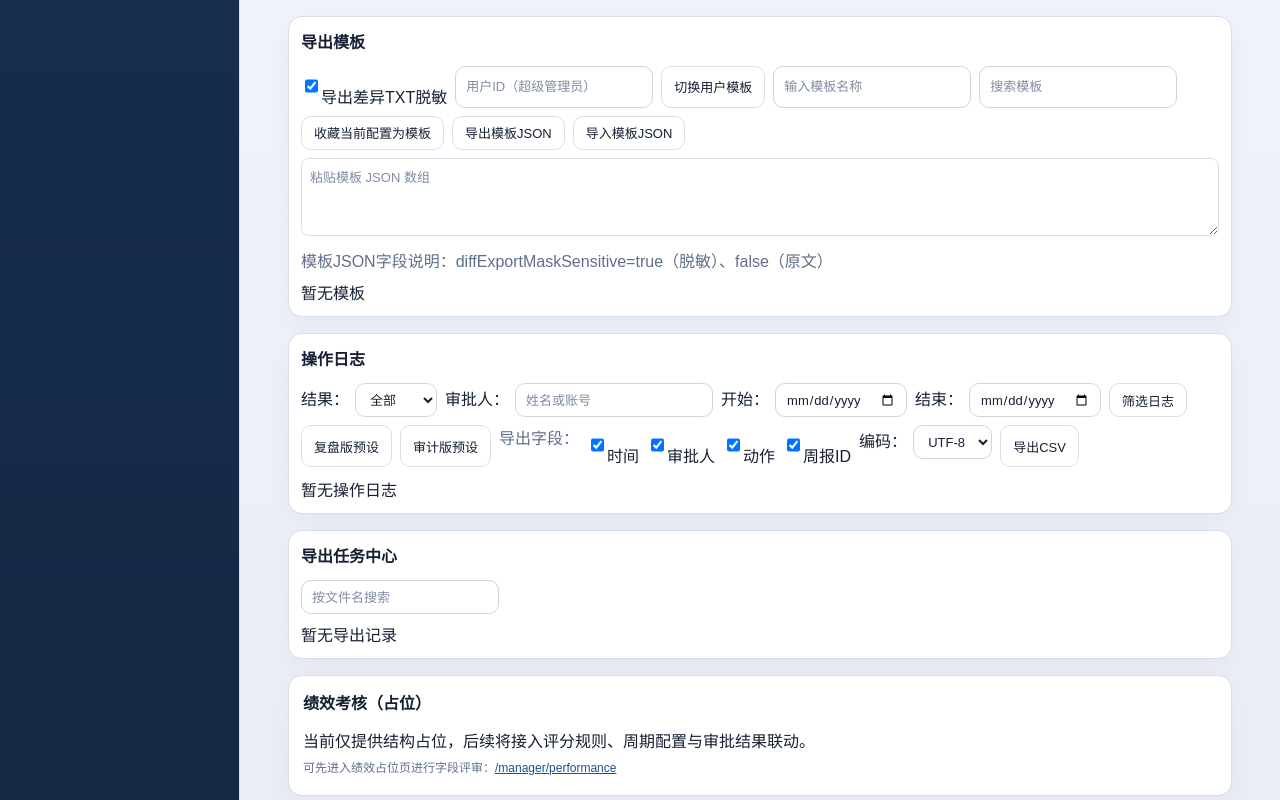
Test case: ManagerReviewsPage › exports csv with current filters and date range in filename
The image size is (1280, 800).
(page scrolled)
Select "仅驳回" in the dropdown named "日志结果筛选" at (396, 400), box 355,383 -> 437,417
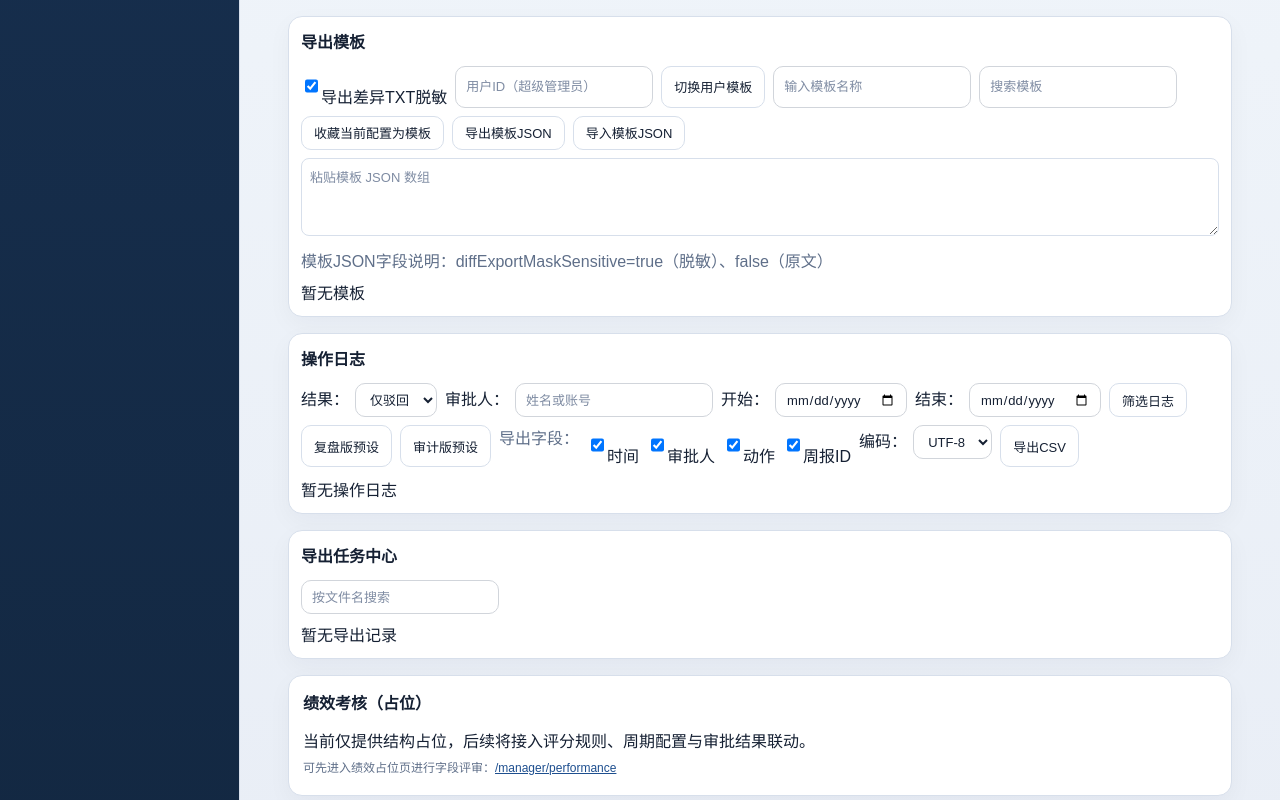
Type "admin" into the field named "日志审批人筛选" at (614, 400), box 515,383 -> 713,417
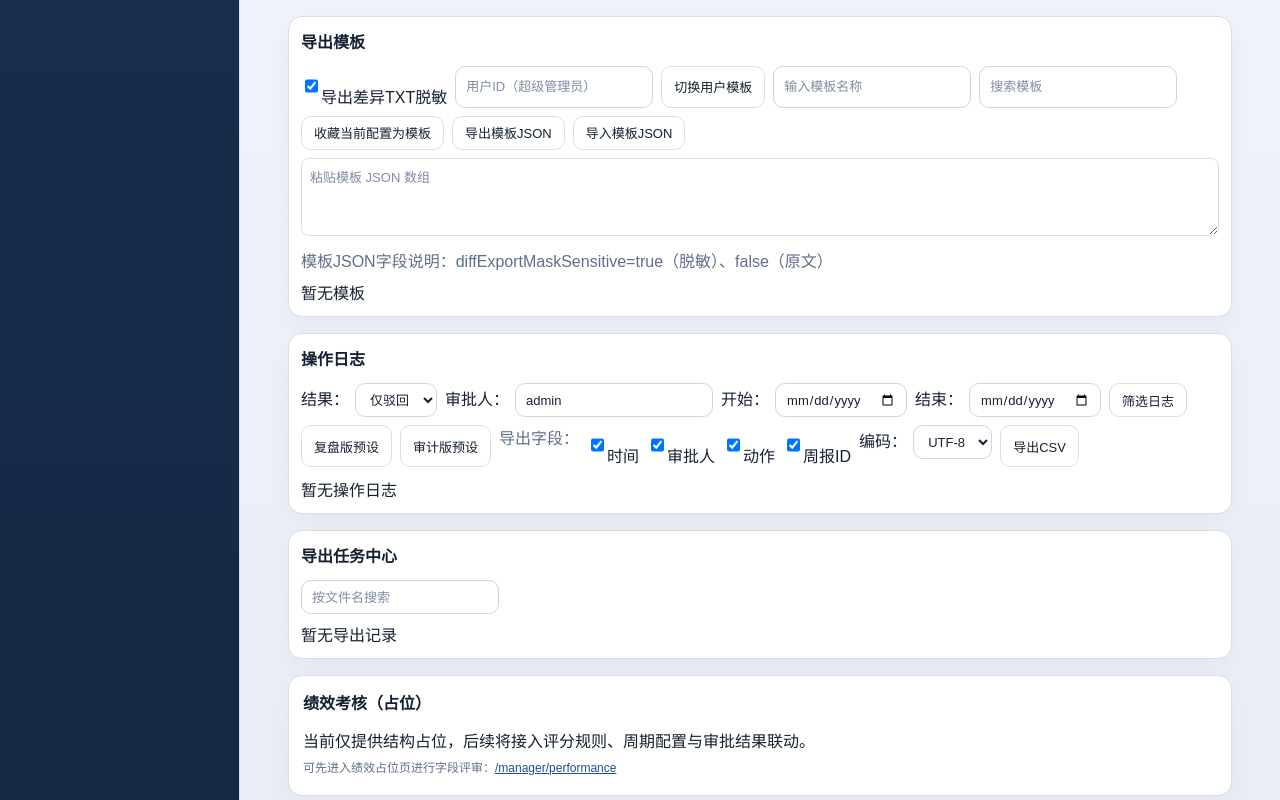
Type "2026-03-01" into the date field named "日志开始日期筛选" at (841, 400), box 775,383 -> 907,417
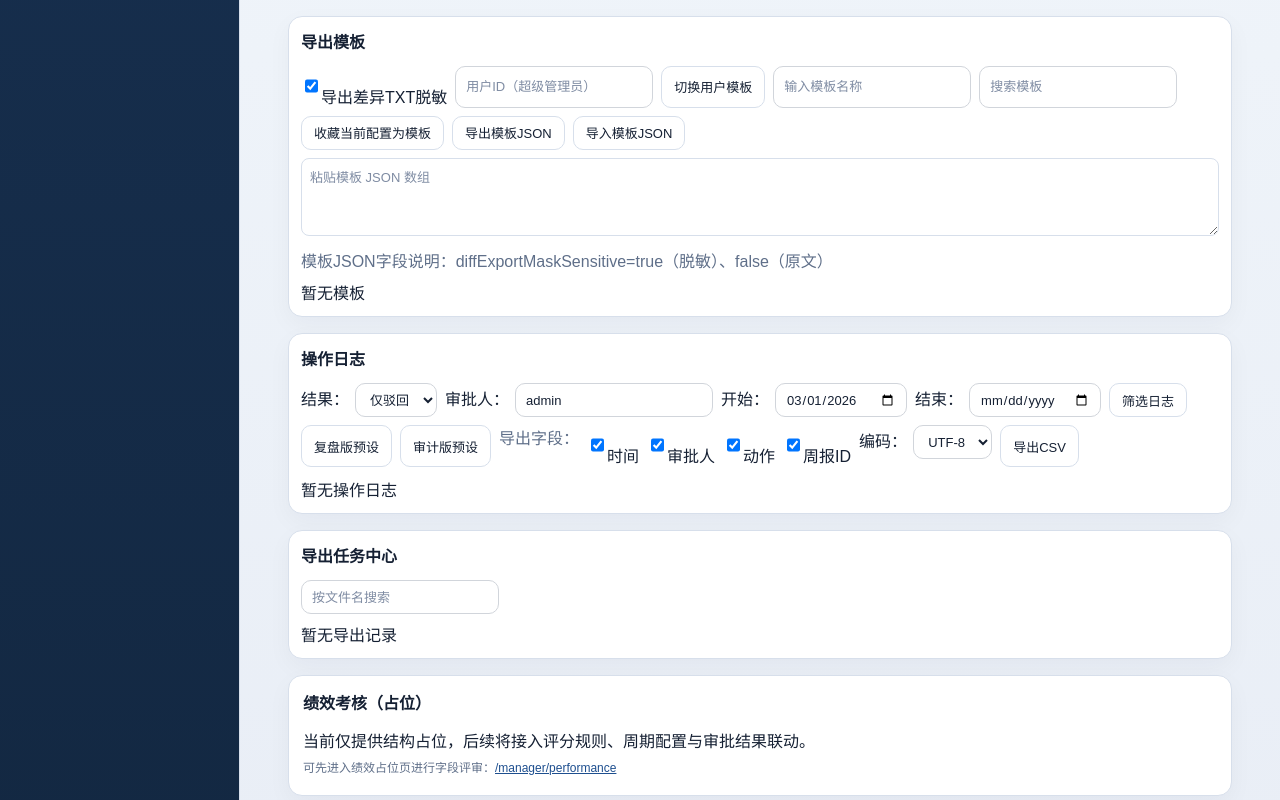
Type "2026-03-20" into the date field named "日志结束日期筛选" at (1035, 400), box 969,383 -> 1101,417
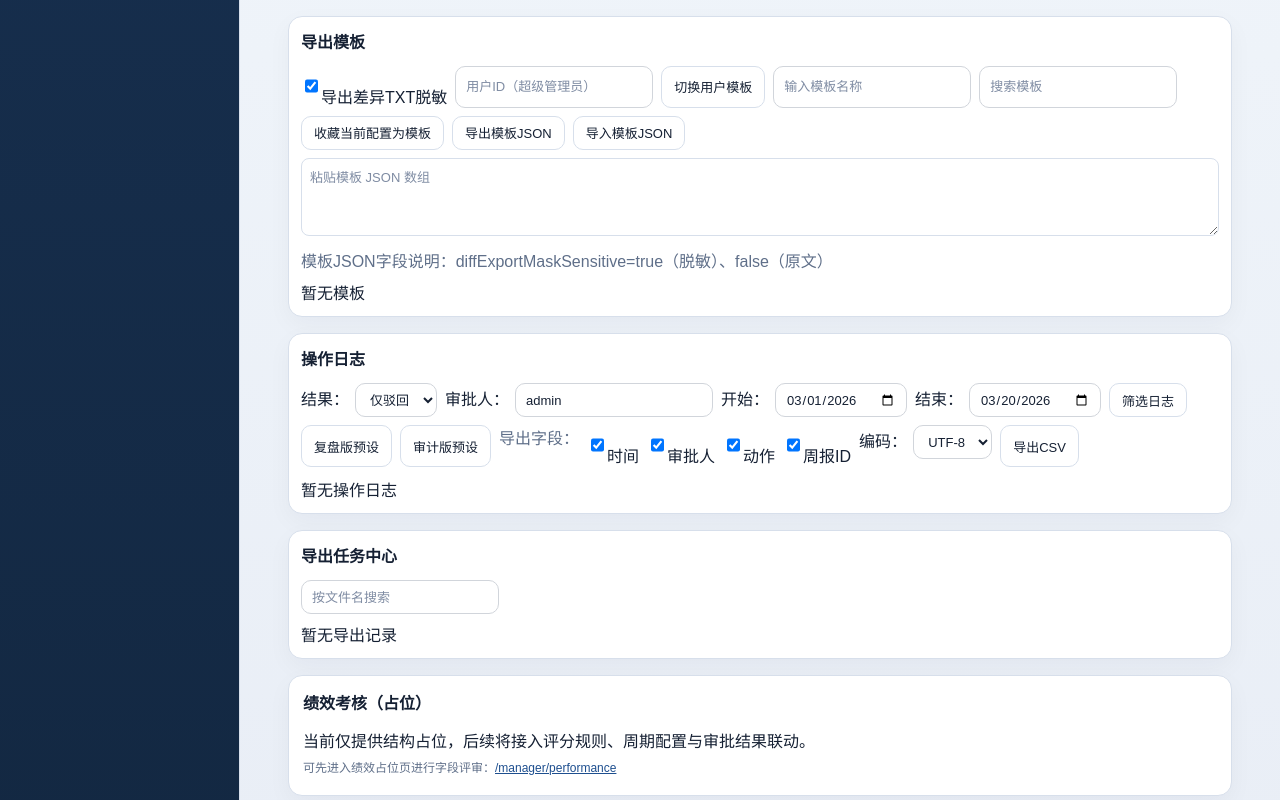
Click the button "导出CSV" at (1039, 446), box 1000,425 -> 1079,467
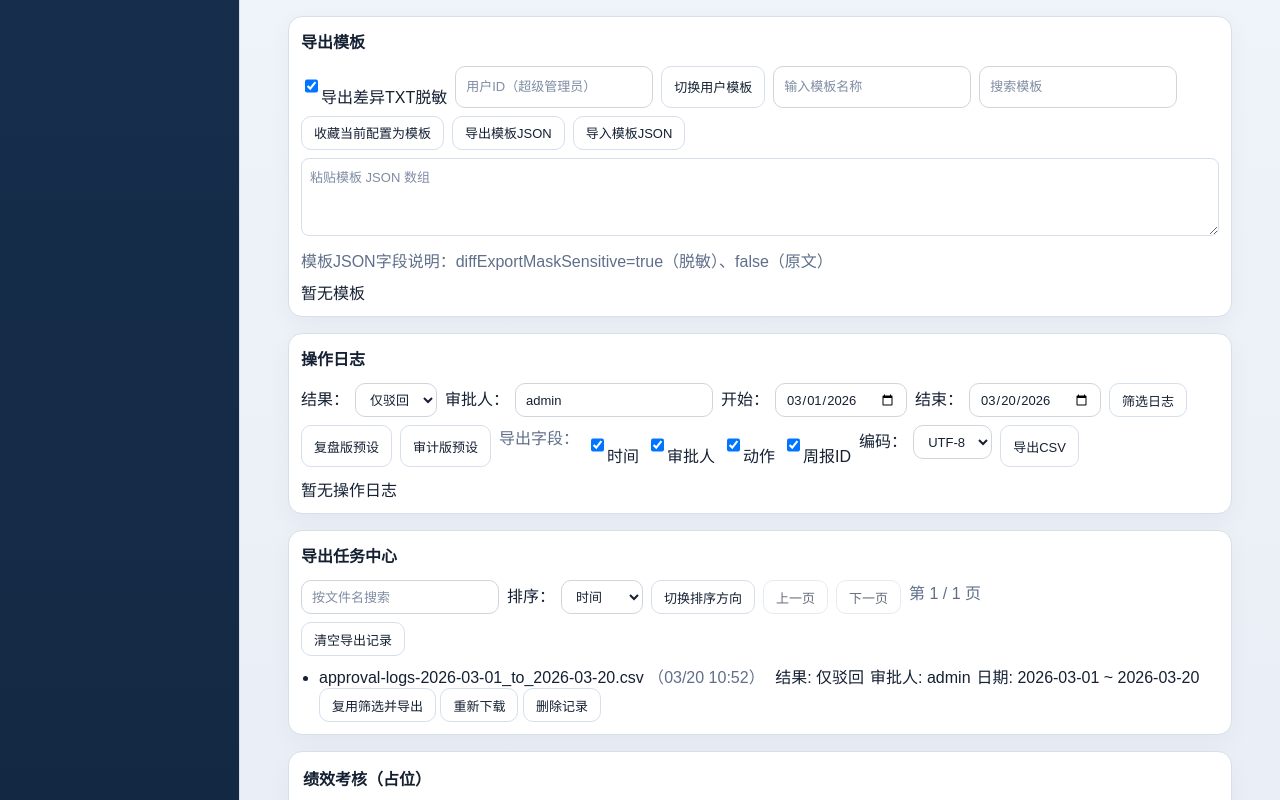
Now the text "approval-logs-2026-03-01_to_2026-03-20.csv" is shown, box 319,669 -> 644,686
